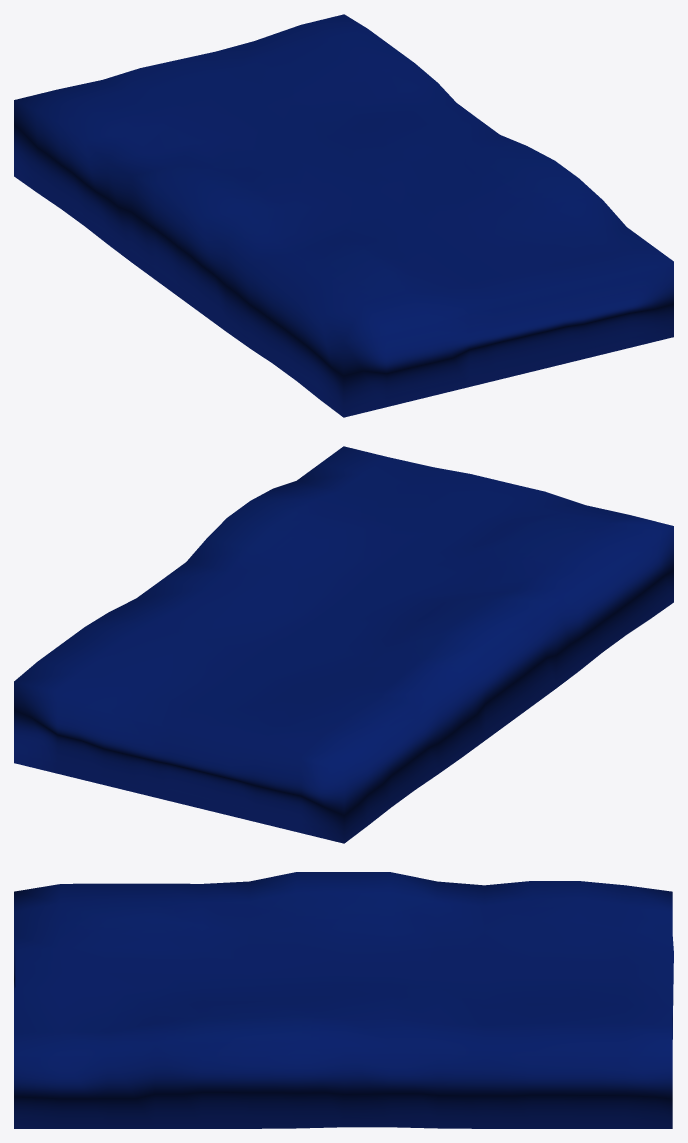
File: Chemin3.fbx
3 renders of one model, top to bottom at view 1: azimuth 30°, elevation 25°; view 2: azimuth 150°, elevation 25°; view 3: azimuth 270°, elevation 25°, orthographic.
Parts seen in each view (by area): view 1: Cube.002; view 2: Cube.002; view 3: Cube.002.
Part boxes in pixels (x1,y1,x2,y2): Cube.002: [14, 14, 673, 417]; Cube.002: [14, 446, 673, 843]; Cube.002: [14, 872, 673, 1128].
Bounding box in the file's own units: 342 × 95.03 × 593.
